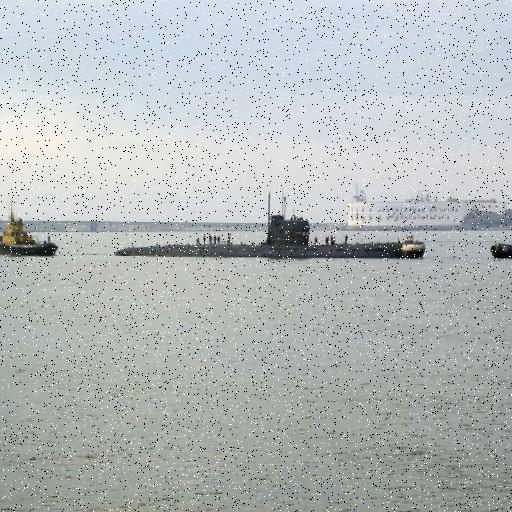submarine: (116, 188, 424, 256)
